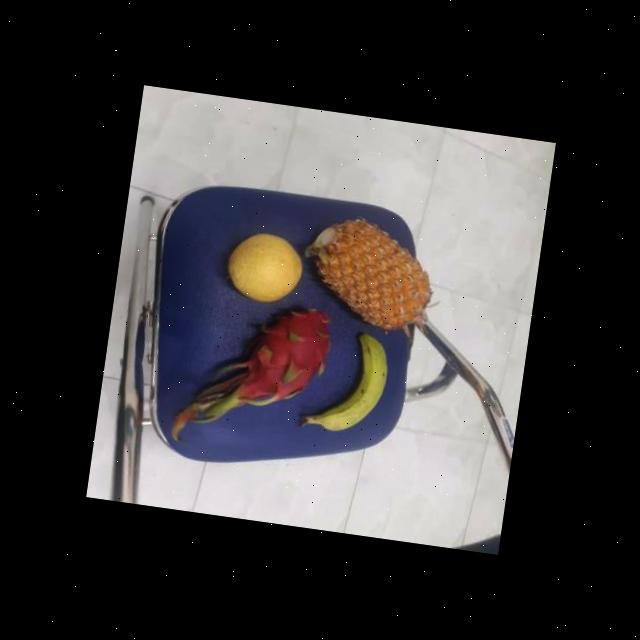banana: (308, 321, 393, 438)
guava: (220, 224, 306, 308)
pear: (220, 224, 306, 308)
pineapple: (297, 208, 441, 336)
pitaya: (226, 292, 335, 415)
